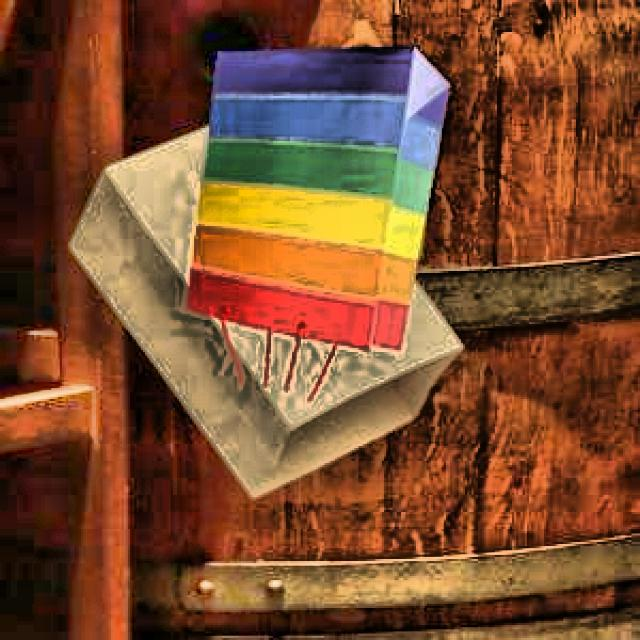Paper-bag: (185, 34, 458, 395)
